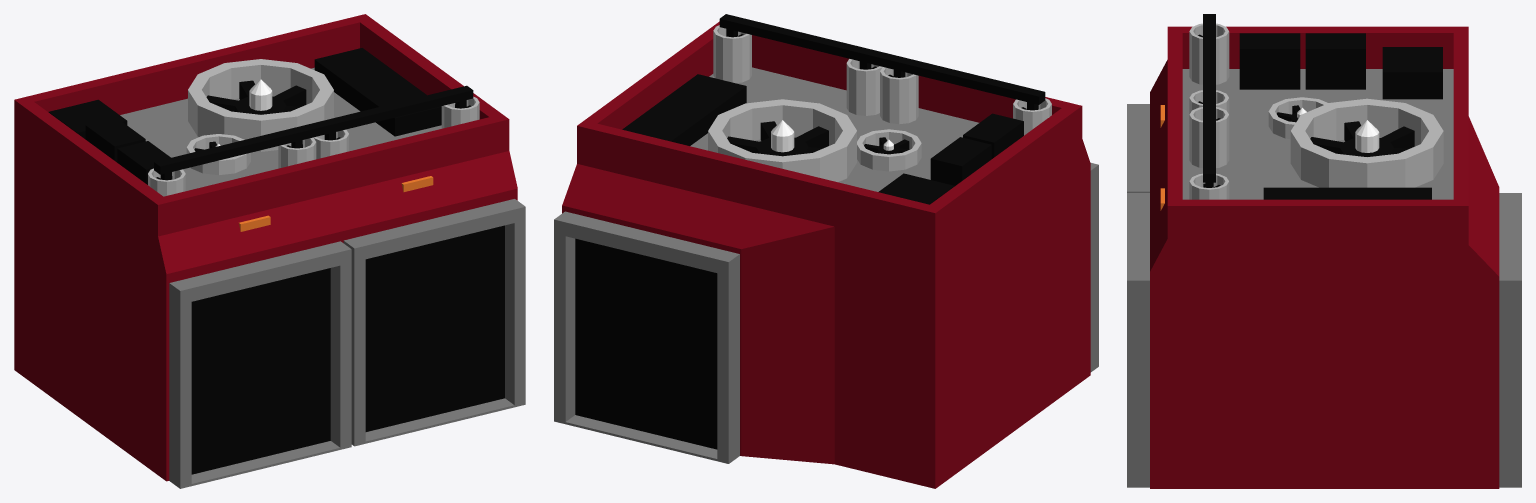
The model's file is Divider2-1.fbx.
3 renders of one model, left to right at view 1: azimuth 30°, elevation 25°; view 2: azimuth 150°, elevation 25°; view 3: azimuth 270°, elevation 25°, orthographic. The views are drawn at different scales.
Parts seen in each view (by area): view 1: Distributor; view 2: Distributor; view 3: Distributor.
Part boxes in pixels (box(x1,y1,x2,y2)): Distributor: box(14, 14, 525, 488); Distributor: box(554, 14, 1098, 488); Distributor: box(1127, 14, 1521, 488).
Bounding box in the file's own units: 400 × 318 × 372.
